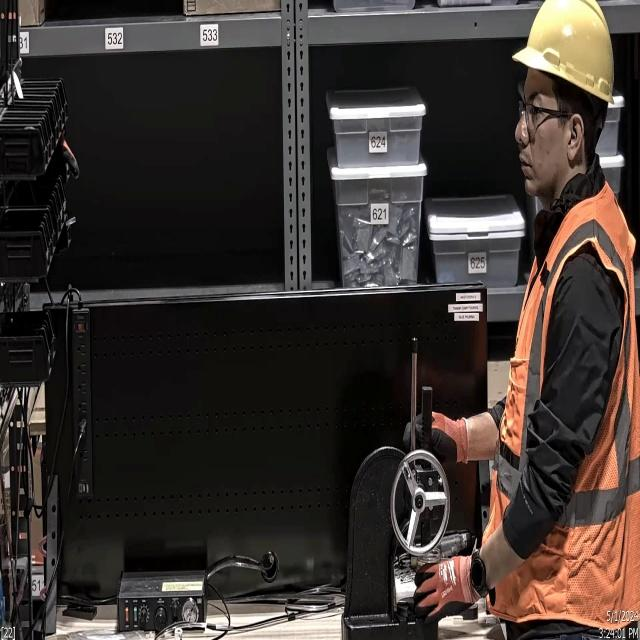construction-gloves: (404, 556, 487, 628), (404, 409, 472, 472)
